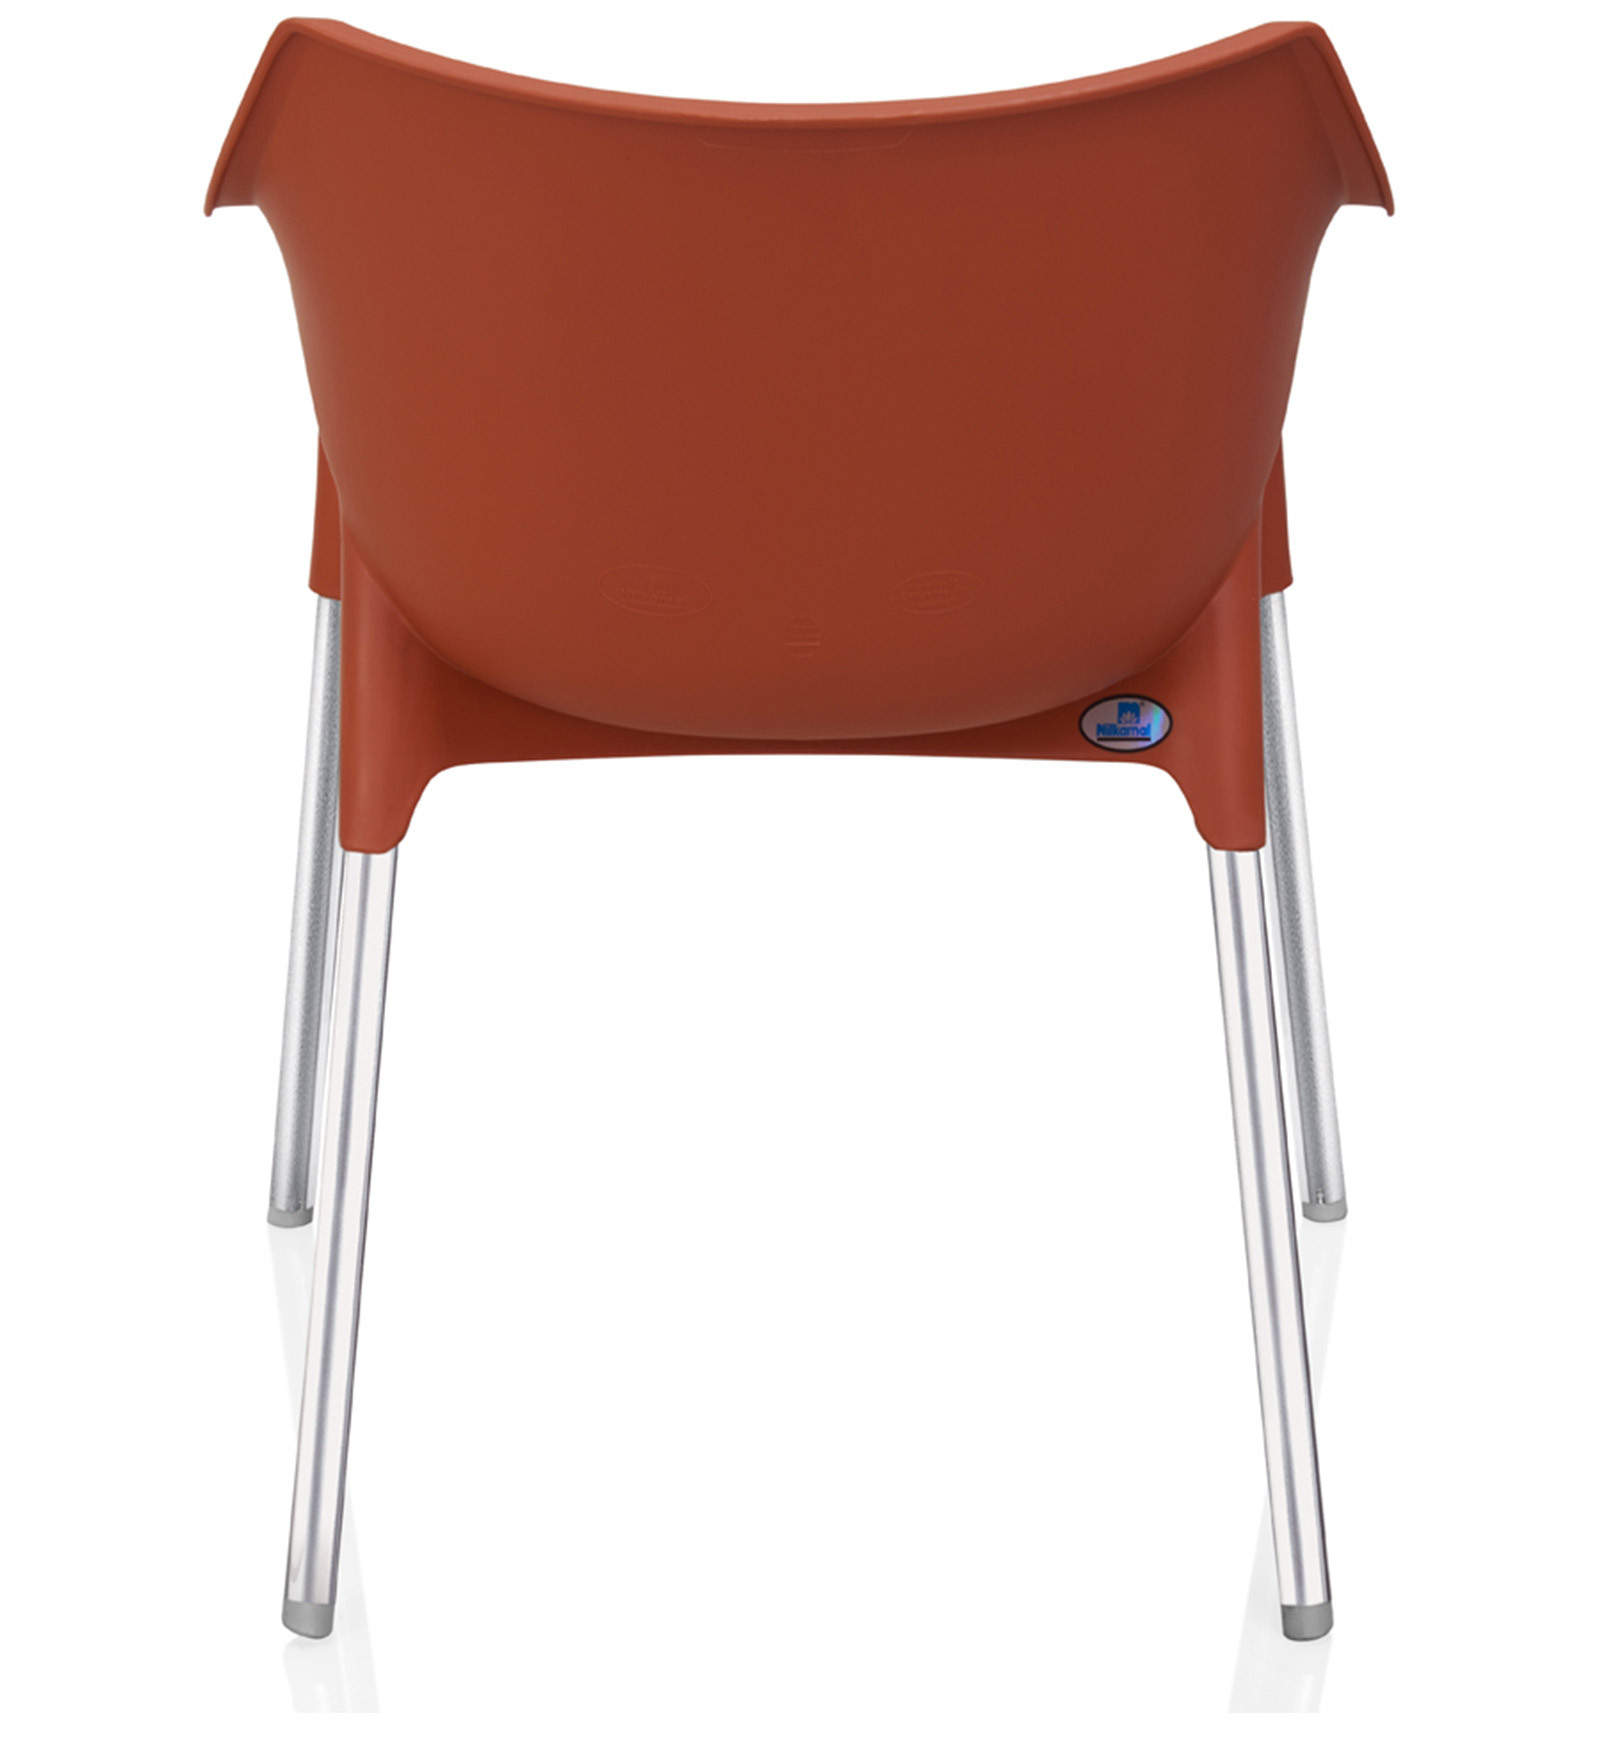Novella Series - 10 Chair (Set of 2) in Rust Colour by Nilkamal: (198, 9, 1395, 1653)
